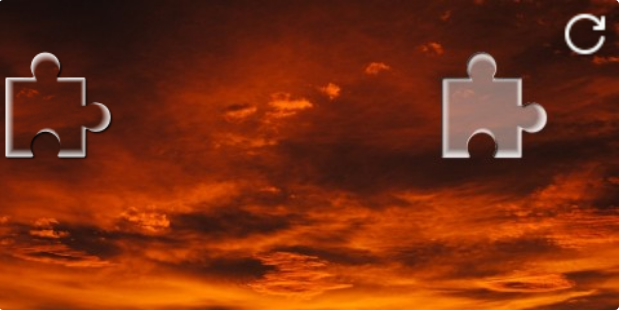target: (442, 52, 549, 159)
